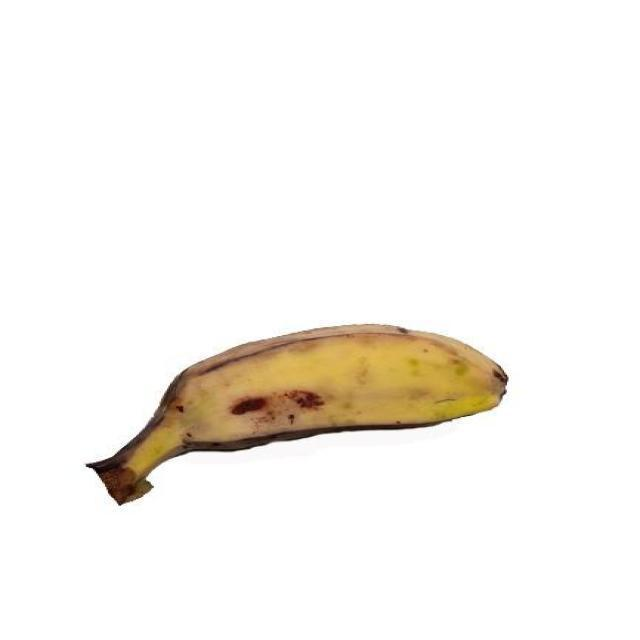Banana: (158, 319, 512, 460)
